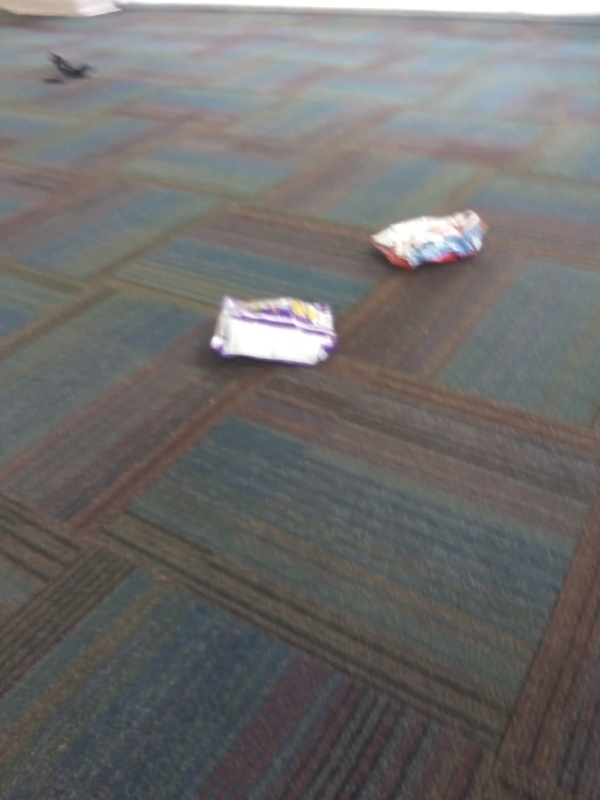bag: (205, 292, 344, 370), (364, 208, 496, 273)
